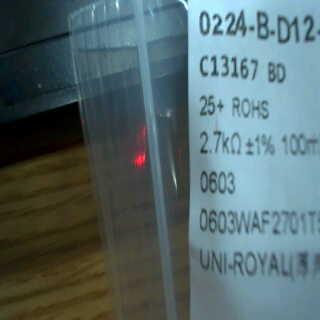2.7kR: (194, 127, 244, 161)
